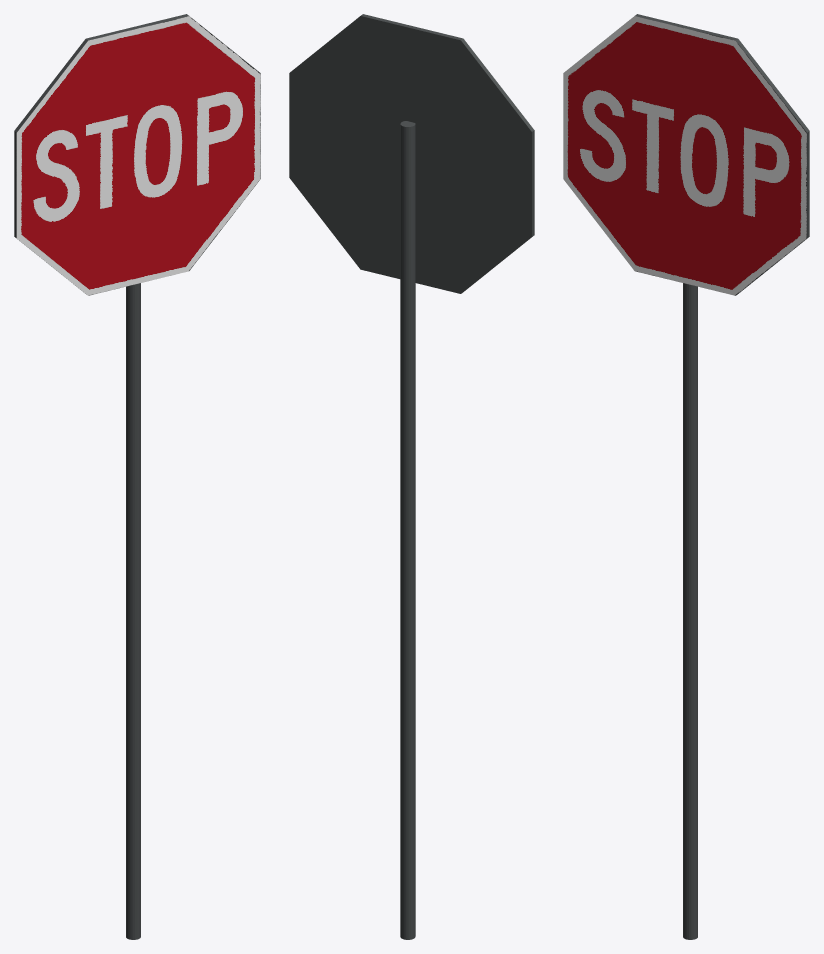
File: StopSign.fbx
3 views of the same model, side by side, from view 1: azimuth 30°, elevation 25°; view 2: azimuth 150°, elevation 25°; view 3: azimuth 330°, elevation 25° (orthographic).
Parts seen in each view (by area): view 1: Sign, Post; view 2: Sign, Post; view 3: Sign, Post.
Part boxes in pixels (box(x1,y1,x2,y2)): Sign: box(14, 14, 260, 295); Post: box(126, 283, 140, 939); Sign: box(289, 14, 534, 293); Post: box(400, 121, 415, 939); Sign: box(563, 14, 809, 295); Post: box(683, 283, 697, 939).
Size of what is drawn, in the model's own units: 185 by 660 by 11.99.
